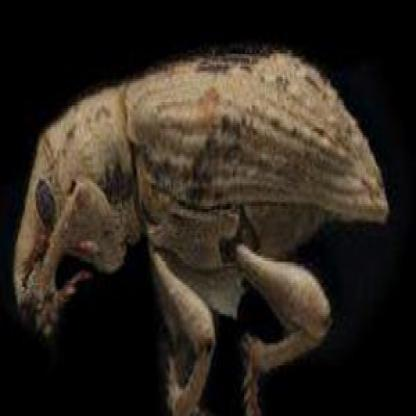rice-bug: (13, 50, 388, 416)
